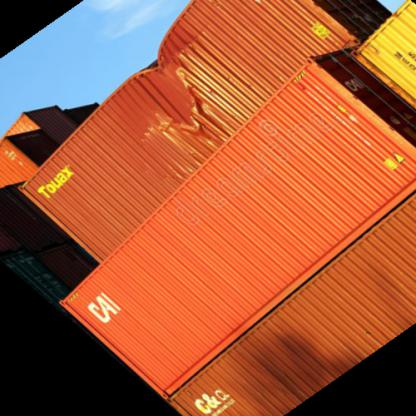Damage: (143, 47, 207, 135)
